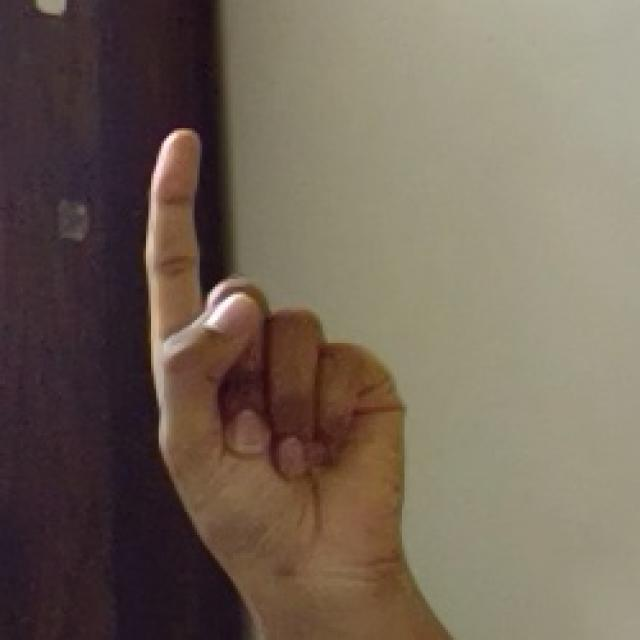Numeric-1: (145, 123, 409, 624)
